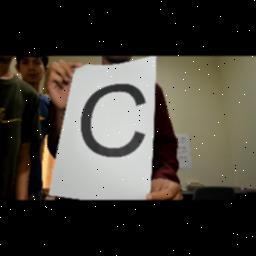c: (78, 80, 150, 160)
